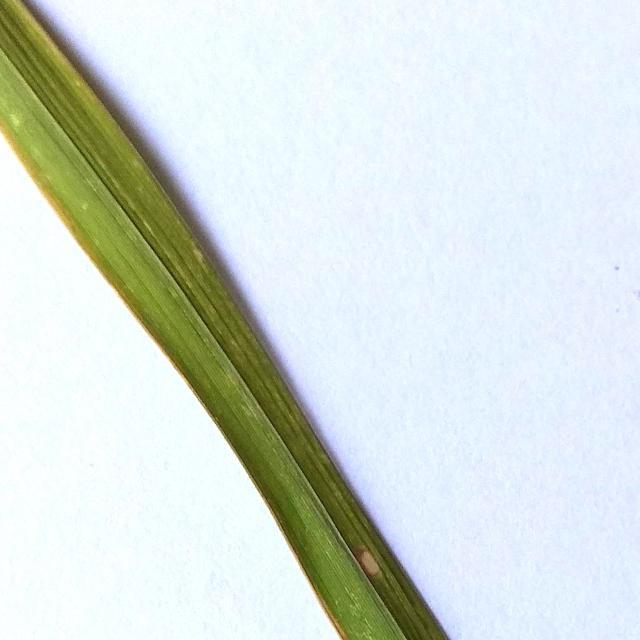Blast: (356, 548, 389, 584)
